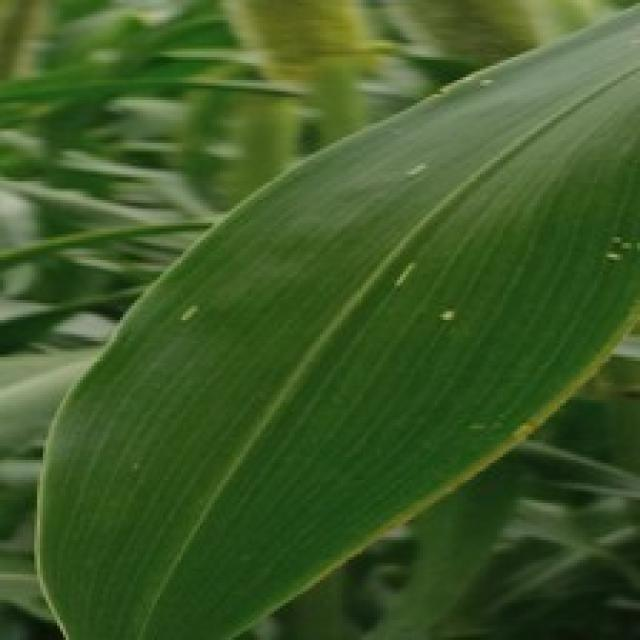Corn: (29, 0, 637, 637)
